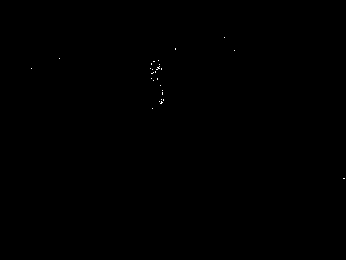person: (150, 59, 168, 110)
